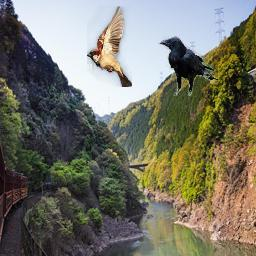Crow: (158, 36, 218, 96)
Sparrow: (88, 7, 133, 88)
